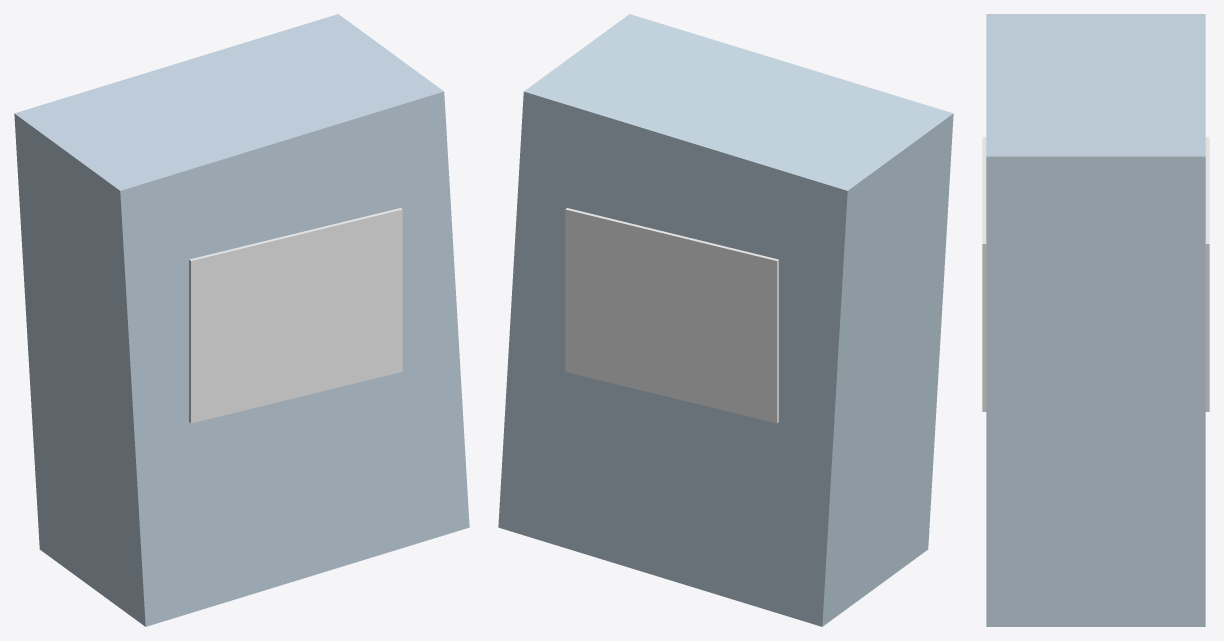
The model's file is salt.glb.
The picture shows the model from 3 angles, left to right: view 1: azimuth 30°, elevation 25°; view 2: azimuth 150°, elevation 25°; view 3: azimuth 270°, elevation 25°; orthographic projection. The views are drawn at different scales.
Visible parts, largest first — view 1: salt; view 2: salt; view 3: salt.
Boxes of the visible parts, left/top/right/bottom form: salt: left=14, top=14, right=469, bottom=626; salt: left=498, top=14, right=953, bottom=626; salt: left=982, top=14, right=1209, bottom=626.
Bounding box in the file's own units: 0.4952 × 0.6265 × 0.27.
